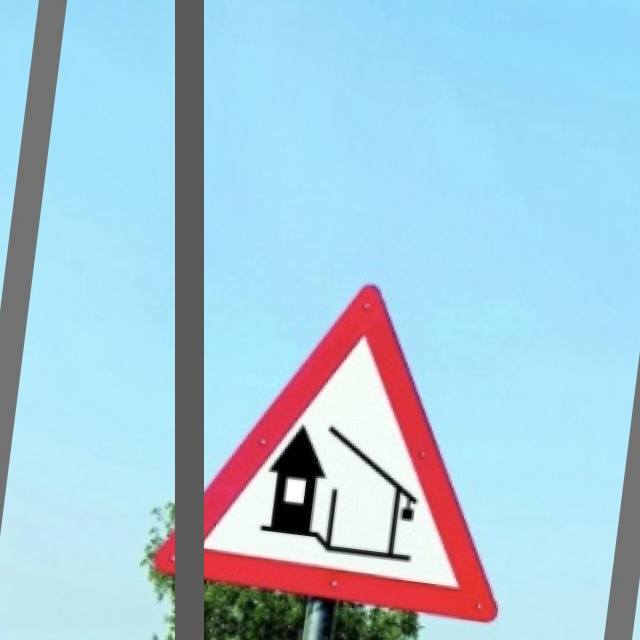Barrier_Ahead: (150, 265, 539, 624)
